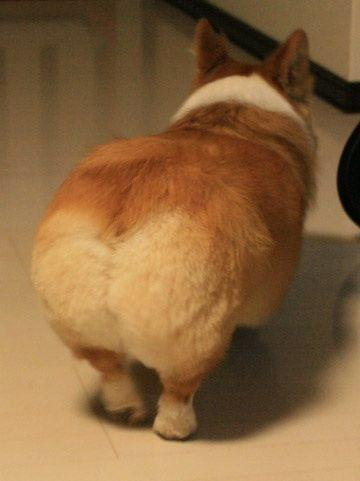adult_dog: (33, 15, 318, 441)
